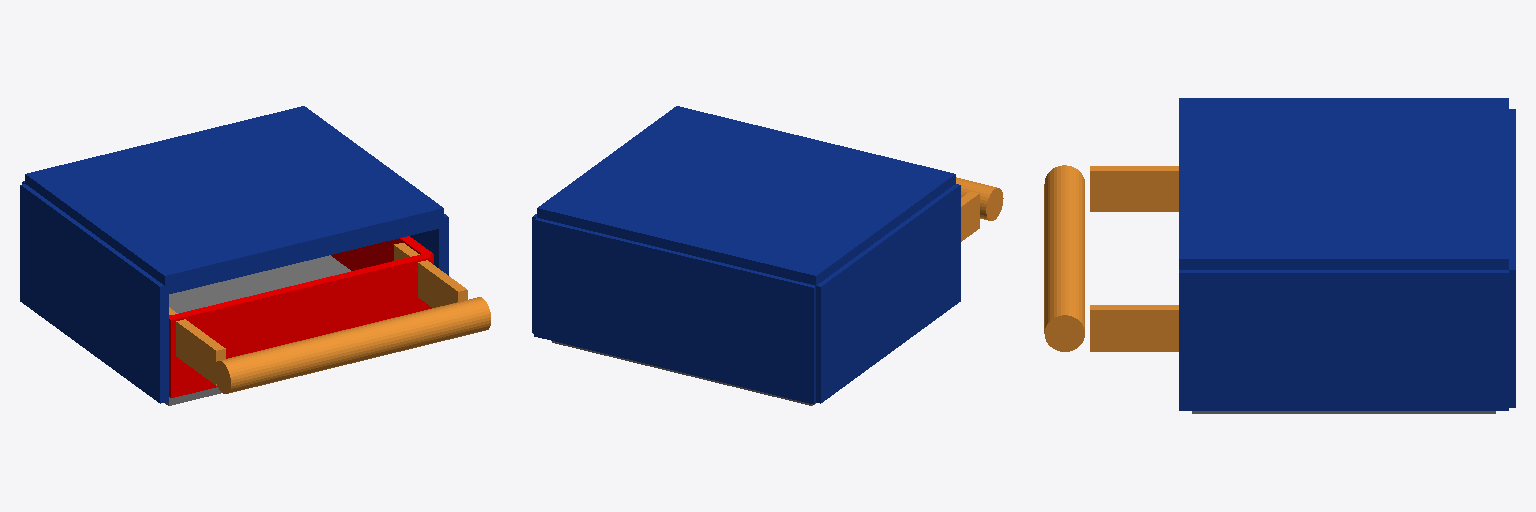
The robot description file, URDF, robot "bowl.urdf":
<?xml version="0.0" ?>
<robot name="bowl.urdf">
  <material name="mainColor">
    <color rgba=".1 .25 .6 1."/>
  </material>
  <material name="baseColor">
    <color rgba="1. 0. 0. 1."/>
  </material>
<!--   <material name="mainColor">
    <color rgba=".55 .27 .1 1."/>
  </material> -->
<!--   <material name="mainColor">
    <color rgba="1. 1. 1. 1."/>
  </material> -->
  <material name="orange">
    <color rgba=".93 .6 .23 1"/>
  </material>
  <material name="grey">
    <color rgba=".5 .5 .5 1."/>
  </material>

  <link name="base_link">
    <inertial>
      <origin rpy="0 0 0" xyz="0.0 0.0 0.0"/>
        <mass value="1"/>
        <inertia ixx="1" ixy="0" ixz="0" iyy="1" iyz="0" izz="1"/>
    </inertial>
  </link>

  <link name="base">
    <contact>
      <rolling_friction value="0.0"/>
      <lateral_friction value="0.0"/>
      <spinning_friction value="0.0"/>
    </contact>
    <inertial>
      <origin rpy="0 0 0" xyz="0.0 0.0 0.0"/>
       <mass value="0.1"/>
       <inertia ixx="1" ixy="0" ixz="0" iyy="1" iyz="0" izz="1"/>
    </inertial>
    <!-- bottom -->
    <visual>
      <origin rpy="0 0 0" xyz="0 0 -0.2"/>
      <geometry>
        <box size="1.4 1.2 .1"/>
      </geometry>
      <material name="grey"/>
    </visual>
    <visual>
      <!-- right -->
      <origin rpy="0 0 0" xyz="0 -.6 0"/>
      <geometry>
        <box size="1.4 .05 0.4"/>
      </geometry>
      <material name="baseColor"/>
    </visual>
    <visual>
      <!-- left -->
      <origin rpy="0 0 0" xyz="0 .6 0"/>
      <geometry>
        <box size="1.4 .05 0.4"/>
      </geometry>
      <material name="baseColor"/>
    </visual>
    <visual>
      <!-- front -->
      <origin rpy="0 0 0" xyz=".7 0 0"/>
      <geometry>
        <box size=".05 1.2 0.4"/>
      </geometry>
      <material name="baseColor"/>
    </visual>
    <visual>
      <!-- back -->
      <origin rpy="0 0 0" xyz="-.7 0 0"/>
      <geometry>
        <box size=".05 1.2 0.4"/>
      </geometry>
      <material name="baseColor"/>
    </visual>

    <collision>
      <!--Bottom --> 
      <origin rpy="0 0 0" xyz="0 0 -2"/>
      <geometry>
        <box size="1.4 1.2 .1"/>
      </geometry>
    </collision>
    <collision>
      <!-- right -->
      <origin rpy="0 0 0" xyz="0 -.6 0"/>
      <geometry>
        <box size="1.4 .05 0.4"/>
      </geometry>
    </collision>
    <collision>
      <!-- left -->
      <origin rpy="0 0 0" xyz="0 .6 0"/>
      <geometry>
        <box size="1.4 .05 0.4"/>
      </geometry>
    </collision>
    <collision>
      <!-- front -->
      <origin rpy="0 0 0" xyz=".7 0 0"/>
      <geometry>
        <box size=".05 1.2 0.4"/>
      </geometry>
    </collision>
    <collision>
      <!-- back -->
      <origin rpy="0 0 0" xyz="-.7 0 0"/>
      <geometry>
        <box size=".05 1.2 0.4"/>
      </geometry>
    </collision>
  </link>

  <link name="handle_r">
    <contact>
      <rolling_friction value="1000.0"/>
      <lateral_friction value="1000.0"/>
      <!-- lateral_friction was key to not making the gripper slide on the handle--> 
      <spinning_friction value="1000.0"/>
      <contact_cfm value="0.0"/>
      <contact_erp value="1.0"/>
    </contact>
    <inertial>
      <origin rpy="0 1.57 0" xyz="0 0 0"/>
      <mass value=".1"/>
      <inertia ixx="1" ixy="0" ixz="0" iyy="1" iyz="0" izz="1"/>
    </inertial>
    <visual>
      <origin rpy="0 1.57 0" xyz="0 0 0"/>
      <geometry>
        <cylinder radius="0.08" length="1.4"/>
      </geometry>
      <material name="orange"/>
    </visual>
    <collision>
      <origin rpy="0 1.57 0" xyz="0 0 0"/>
      <geometry>
        <cylinder radius="0.08" length="1.4"/>
      </geometry>
    </collision>
  </link>

  <link name="handle_plate_far">
    <contact>
      <rolling_friction value="1000.0"/>
      <lateral_friction value="1000.0"/>
      <spinning_friction value="1000.0"/>
      <contact_cfm value="0.0"/>
      <contact_erp value="1.0"/>
    </contact>
    <inertial>
      <origin rpy="0 1.57 0" xyz="0 0 0"/>
      <mass value=".1"/>
      <inertia ixx="1" ixy="0" ixz="0" iyy="1" iyz="0" izz="1"/>
    </inertial>
    <visual>
      <origin rpy="0 0 0" xyz="0 0 0"/>
      <geometry>
        <box size=".05 .6 .18"/>
      </geometry>
      <material name="orange"/>
    </visual>
    <collision>
      <origin rpy="0 0 0" xyz="0 0 0"/>
      <geometry>
        <box size=".05 .6 .18"/>
      </geometry>
    </collision>
  </link>

  <link name="handle_plate_near">
    <contact>
      <rolling_friction value="1000.0"/>
      <lateral_friction value="1000.0"/>
      <spinning_friction value="1000.0"/>
      <contact_cfm value="0.0"/>
      <contact_erp value="1.0"/>
    </contact>
    <inertial>
      <origin rpy="0 1.57 0" xyz="0 0 0"/>
      <mass value=".1"/>
      <inertia ixx="1" ixy="0" ixz="0" iyy="1" iyz="0" izz="1"/>
    </inertial>
    <visual>
      <origin rpy="0 0 0" xyz="0 0 0"/>
      <geometry>
        <box size=".05 .6 .18"/>
      </geometry>
      <material name="orange"/>
    </visual>
    <collision>
      <origin rpy="0 0 0" xyz="0 0 0"/>
      <geometry>
        <box size=".05 .6 .18"/>
      </geometry>
    </collision>
  </link>

  <link name="frame">
    <contact>
      <rolling_friction value="0.001"/>
      <lateral_friction value="0.005"/>
      <spinning_friction value="0.001"/>
      <contact_cfm value="0.0"/>
      <contact_erp value="1.0"/>
    </contact>
    <inertial>
      <origin rpy="0 0 0" xyz="0.0 0.0 0.0"/>
       <mass value="1000"/>
       <inertia ixx="1" ixy="0" ixz="0" iyy="1" iyz="0" izz="1"/>
    </inertial>
    <visual>
      <!--Top-->
      <origin rpy="0 0 0" xyz="0 0 .3"/>
      <geometry>
        <box size="1.5 1.3 .1"/>
      </geometry>
      <material name="mainColor"/>
    </visual>
    <visual>
      <!--Right-->
      <origin rpy="0 0 0" xyz="0 .65 0"/>
      <geometry>
        <box size="1.5 .05 .6"/>
      </geometry>
      <material name="mainColor"/>
    </visual>
    <visual>
      <!--Front-->
      <origin rpy="0 0 0" xyz=".75 0 0"/>
      <geometry>
        <box size=".05 1.3 .6"/>
      </geometry>
      <material name="mainColor"/>
    </visual>
    <visual>
      <!--Back-->
      <origin rpy="0 0 0" xyz="-.75 0 0"/>
      <geometry>
        <box size=".05 1.3 .6"/>
      </geometry>
      <material name="mainColor"/>
    </visual>

    <collision>
      <!--Top-->
      <origin rpy="0 0 0" xyz="0 0 .3"/>
      <geometry>
        <box size="1.5 1.3 .1"/>
      </geometry>
    </collision>
    <collision>
      <!--Right-->
      <origin rpy="0 0 0" xyz="0 .65 0"/>
      <geometry>
        <box size="1.5 .05 .6"/>
      </geometry>
    </collision>
    <collision>
      <!--Front-->
      <origin rpy="0 0 0" xyz=".75 0 0"/>
      <geometry>
        <box size=".05 1.3 .6"/>
      </geometry>
    </collision>
    <collision>
      <!--Back-->
      <origin rpy="0 0 0" xyz="-.75 0 0"/>
      <geometry>
        <box size=".05 1.3 .6"/>
      </geometry>
    </collision>
  </link>

  <joint name="frame_joint" type="fixed">
    <parent link="base_link"/>
    <child link="frame"/>
  </joint>

  <joint name="base_frame_joint" type="prismatic">
    <origin rpy="0 0 0" xyz="0 0 -.1"/>
    <parent link="frame"/>
    <child link="base"/>
    <axis rpy="0 0 0" xyz="0 1 0"/>
    <limit effort="100" lower="-1.25" upper="0" velocity="100"/>
    <dynamics damping="0.0" friction=".01"/>
  </joint>

  <joint name="handle_plate_far_joint" type="fixed">
    <origin rpy="0 0 0" xyz="-0.65 -0.7 0.1"/>
    <parent link="base"/>
    <child link="handle_plate_far"/>
  </joint>

  <joint name="handle_plate_near_joint" type="fixed">
    <origin rpy="0 0 0" xyz="0.65 -0.7 0.1"/>
    <parent link="base"/>
    <child link="handle_plate_near"/>
  </joint>

  <joint name="handle_r_joint" type="fixed">
    <origin rpy="0 0 0" xyz="0 -1.1 0.1"/>
    <parent link="base"/>
    <child link="handle_r"/>
  </joint>

</robot>

--- Render facts (derived) ---
Views: 3 orthographic renders of the robot side by side, from view 1: azimuth 30°, elevation 25°; view 2: azimuth 150°, elevation 25°; view 3: azimuth 270°, elevation 25°.
Model bowl.urdf with 6 links and 5 joints (1 prismatic, 4 fixed), rooted at base_link, posed all joints at 0.
Links seen in each view (by area): view 1: frame, base, handle_r, handle_plate_far, handle_plate_near; view 2: frame, handle_r, handle_plate_far; view 3: frame, handle_r, handle_plate_near, handle_plate_far, base.
Boxes of the visible links, x1,y1,x2,y2 form: frame: [20, 106, 448, 403]; base: [165, 236, 433, 405]; handle_r: [214, 297, 490, 393]; handle_plate_far: [169, 307, 225, 385]; handle_plate_near: [394, 243, 467, 307]; frame: [532, 106, 960, 404]; handle_r: [956, 177, 1003, 220]; handle_plate_far: [961, 191, 979, 241]; frame: [1179, 98, 1515, 410]; handle_r: [1044, 165, 1084, 351]; handle_plate_near: [1090, 305, 1178, 351]; handle_plate_far: [1090, 166, 1178, 211]; base: [1192, 411, 1495, 413].
Size in the robot's own frame: 1.55 by 1.85 by 0.7 metres.
Geometry: primitives only (box / cylinder / sphere), no mesh files.